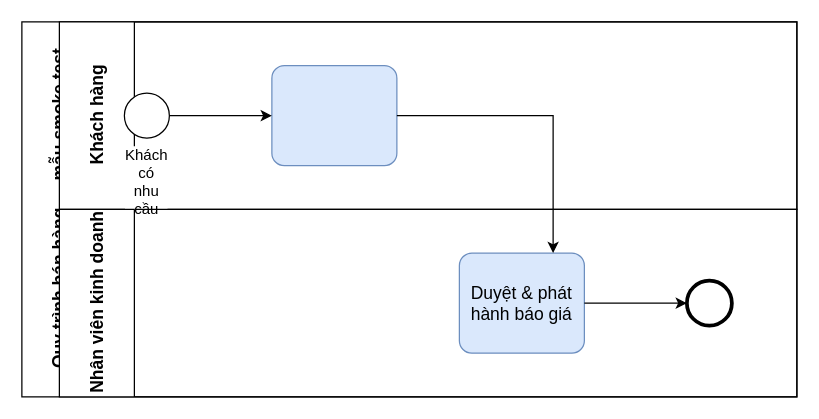
The diagram is 819 pixels wide and 419 high, and some of its shapes have lost their labels. The shapes that lost their labels are listed below. From the top down, each one's centre as x and y in pixels, then its label:
(x=334, y=115): Gửi yêu cầu báo giá
(x=708, y=302): Báo giá đã gửi
